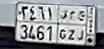1: (46, 4, 53, 41)
3: (19, 5, 29, 42)
4: (30, 6, 37, 42)
6: (37, 5, 45, 40)
G: (58, 10, 68, 41)
J: (76, 8, 86, 42)
Z: (69, 9, 75, 40)
